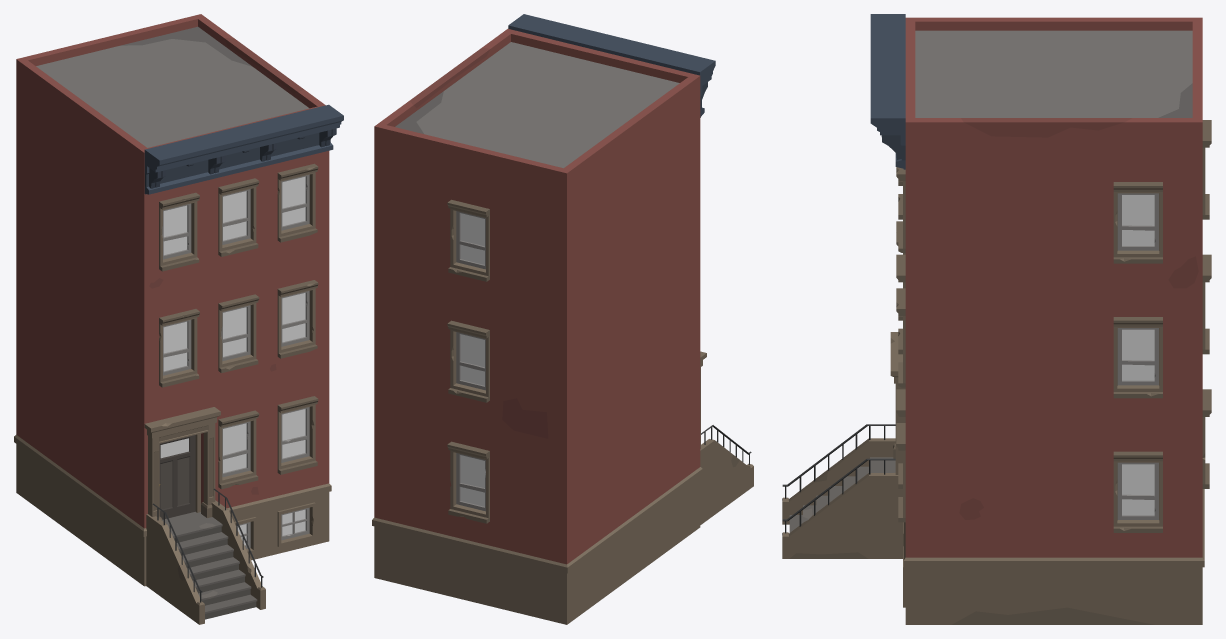
File: SM_Bldg_City_Apartment_T1_3Floor_Corner.fbx
3 views of the same model, side by side, from view 1: azimuth 30°, elevation 25°; view 2: azimuth 150°, elevation 25°; view 3: azimuth 270°, elevation 25° (orthographic). The views are drawn at different scales.
Visible parts, largest first — view 1: SM_Bldg_City_Apartment_T1_3Floor_Corner, SM_Bldg_City_Apartment_T1_3Floor_Corner_Glass, SM_Bldg_City_Apartment_T1_3Floor_Corner_Door; view 2: SM_Bldg_City_Apartment_T1_3Floor_Corner, SM_Bldg_City_Apartment_T1_3Floor_Corner_Glass; view 3: SM_Bldg_City_Apartment_T1_3Floor_Corner, SM_Bldg_City_Apartment_T1_3Floor_Corner_Glass.
Part boxes in pixels (x1,y1,x2,y2): SM_Bldg_City_Apartment_T1_3Floor_Corner: (14,14,343,624); SM_Bldg_City_Apartment_T1_3Floor_Corner_Glass: (163,176,305,545); SM_Bldg_City_Apartment_T1_3Floor_Corner_Door: (159,435,195,519); SM_Bldg_City_Apartment_T1_3Floor_Corner: (372,14,753,624); SM_Bldg_City_Apartment_T1_3Floor_Corner_Glass: (460,213,485,506); SM_Bldg_City_Apartment_T1_3Floor_Corner: (782,14,1211,624); SM_Bldg_City_Apartment_T1_3Floor_Corner_Glass: (1122,195,1154,515).
Bounding box in the file's own units: 522 × 1128 × 867.
